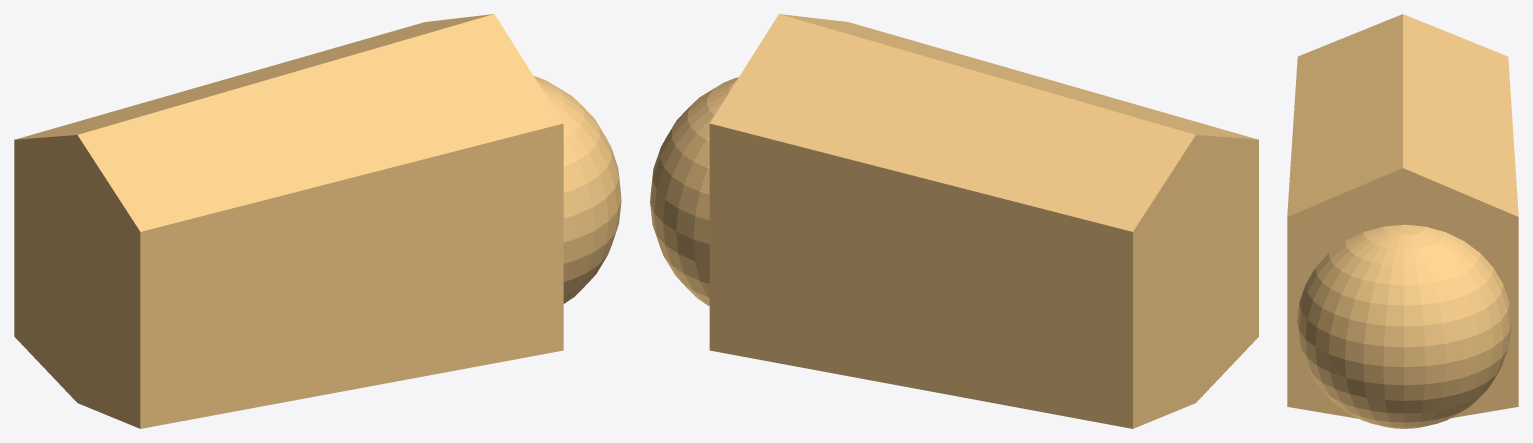
File: R_finger2_0.obj
The picture shows the model from 3 angles, left to right: view 1: azimuth 30°, elevation 25°; view 2: azimuth 150°, elevation 25°; view 3: azimuth 270°, elevation 25°; orthographic projection. The views are drawn at different scales.
Visible parts, largest first — view 1: finger2_0球.001_球.025; view 2: finger2_0球.001_球.025; view 3: finger2_0球.001_球.025.
Part boxes in pixels (left/top/right/bottom): finger2_0球.001_球.025: left=14, top=14, right=621, bottom=428; finger2_0球.001_球.025: left=650, top=14, right=1258, bottom=428; finger2_0球.001_球.025: left=1287, top=14, right=1518, bottom=428.
Bounding box in the file's own units: 0.8603 × 0.4812 × 0.391.
Materials: 1 (1 with a texture image).
